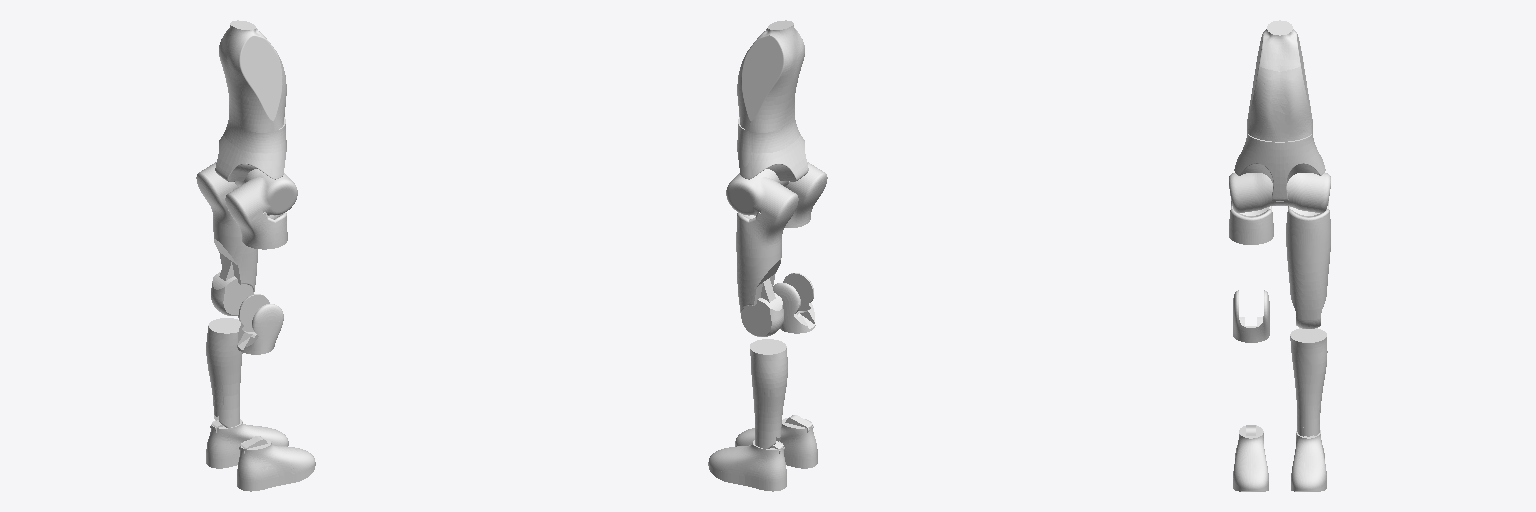
The robot description file, URDF, robot "lite_biped":
<?xml version='1.0' encoding='utf-8'?>
<robot name="lite_biped">
  <!-- GENERATED by lite_description.workflow from Onshape CAD. Do not edit by hand. Regenerate: lite-description-generate lite_biped -->
  <link name="pelvis">
    <inertial>
      <origin xyz="0.0117388 -3.26955e-07 0.172437" rpy="0 0 0" />
      <mass value="5.097" />
      <inertia ixx="0.0717755" ixy="6.22304e-08" ixz="0.00284014" iyy="0.0697925" iyz="5.11064e-07" izz="0.0139469" />
    </inertial>
    <!-- Part pelvis_parts -->
    <collision>
      <origin xyz="0.00964 1e-05 0.09166" rpy="-1.5708 1.5708 0" />
      <geometry>
        <cylinder length="0.03903" radius="0.069" />
      </geometry>
    </collision>
    <collision>
      <origin xyz="0.02 -1e-05 -0" rpy="-1.5708 1.5708 0" />
      <geometry>
        <cylinder length="0.14449" radius="0.052" />
      </geometry>
    </collision>
    <collision>
      <origin xyz="0.0112 0 0.2448" rpy="0.112574 0 -1.5708" />
      <geometry>
        <cylinder length="0.19" radius="0.074" />
      </geometry>
    </collision>
    <visual>
      <origin xyz="0.011317 -5.46765e-07 0.194586" rpy="0 -0 0" />
      <geometry>
        <mesh filename="../meshes/visual/pelvis_visual.stl" />
      </geometry>
      <material name="pelvis_parts_material">
        <color rgba="0.933333 0.933333 0.933333 1" />
      </material>
    </visual>
  </link>
  <!-- Frame imu (dummy link + fixed joint) -->
  <link name="imu">
    <origin xyz="0 0 0" rpy="0 -0 0" />
    <inertial>
      <origin xyz="0 0 0" rpy="0 0 0" />
      <mass value="1e-9" />
      <inertia ixx="0" ixy="0" ixz="0" iyy="0" iyz="0" izz="0" />
    </inertial>
  </link>
  <joint name="imu_frame" type="fixed">
    <origin xyz="0 0 0.08" rpy="0 -0 0" />
    <parent link="pelvis" />
    <child link="imu" />
    <axis xyz="0 0 0" />
  </joint>
  <!-- Link left_hip_pitch -->
  <link name="left_hip_pitch">
    <inertial>
      <origin xyz="-0.0114774 0.00418673 0.0187959" rpy="0 0 0" />
      <mass value="0.18" />
      <inertia ixx="0.000189549" ixy="1.56103e-05" ixz="-3.45388e-05" iyy="0.000226363" iyz="1.30141e-05" izz="0.000286537" />
    </inertial>
    <!-- Part left_hip_pitch_parts -->
    <visual>
      <origin xyz="-0.0114774 0.00418673 0.0187959" rpy="1.74533 0 -0" />
      <geometry>
        <mesh filename="../meshes/visual/left_hip_pitch_visual.stl" />
      </geometry>
      <material name="left_hip_pitch_parts_material">
        <color rgba="0.933333 0.933333 0.933333 1" />
      </material>
    </visual>
  </link>
  <!-- Link left_hip_roll -->
  <link name="left_hip_roll">
    <inertial>
      <origin xyz="-4.8952e-08 0.0525082 -0.0652484" rpy="0 0 0" />
      <mass value="0.93" />
      <inertia ixx="0.00263146" ixy="-5.134e-09" ixz="3.451e-09" iyy="0.00142387" iyz="-0.000651416" izz="0.00255491" />
    </inertial>
    <!-- Part left_hip_roll_parts -->
    <collision>
      <origin xyz="0 0.0248964 -0.0653033" rpy="3.14159 1.50098 1.5708" />
      <geometry>
        <cylinder length="0.08315" radius="0.051" />
      </geometry>
    </collision>
    <visual>
      <origin xyz="-4.8952e-08 0.0525082 -0.0652484" rpy="0 -1.22173 1.5708" />
      <geometry>
        <mesh filename="../meshes/visual/left_hip_roll_visual.stl" />
      </geometry>
      <material name="left_hip_roll_parts_material">
        <color rgba="0.933333 0.933333 0.933333 1" />
      </material>
    </visual>
  </link>
  <!-- Link left_hip_yaw -->
  <link name="left_hip_yaw">
    <inertial>
      <origin xyz="0.00130442 -2.2783e-05 -0.237299" rpy="0 0 0" />
      <mass value="1.54" />
      <inertia ixx="0.00856423" ixy="8.05553e-07" ixz="-0.000337563" iyy="0.00874707" iyz="1.62929e-07" izz="0.00192866" />
    </inertial>
    <!-- Part left_hip_yaw_parts -->
    <collision>
      <origin xyz="-0.005 -0 -0.2575" rpy="0 0.0689405 0" />
      <geometry>
        <cylinder length="0.14534" radius="0.055" />
      </geometry>
    </collision>
    <visual>
      <origin xyz="0.00130442 -2.2783e-05 -0.237299" rpy="-0 0 -0" />
      <geometry>
        <mesh filename="../meshes/visual/left_hip_yaw_visual.stl" />
      </geometry>
      <material name="left_hip_yaw_parts_material">
        <color rgba="0.933333 0.933333 0.933333 1" />
      </material>
    </visual>
  </link>
  <!-- Link left_knee_pitch -->
  <link name="left_knee_pitch">
    <inertial>
      <origin xyz="-0.00486713 0.0372163 -0.000224083" rpy="0 0 0" />
      <mass value="0.23" />
      <inertia ixx="0.00048246" ixy="3.51526e-05" ixz="-1.20098e-07" iyy="0.000330466" iyz="5.6617e-07" izz="0.00037756" />
    </inertial>
    <!-- Part left_knee_pitch_parts -->
    <collision>
      <origin xyz="-0.015 0.1519 0" rpy="-1.5708 -1.5708 0" />
      <geometry>
        <cylinder length="0.30379" radius="0.044" />
      </geometry>
    </collision>
    <visual>
      <origin xyz="-0.00486713 0.0372163 -0.000224083" rpy="1.5708 0 0" />
      <geometry>
        <mesh filename="../meshes/visual/left_knee_pitch_visual.stl" />
      </geometry>
      <material name="left_knee_pitch_parts_material">
        <color rgba="0.933333 0.933333 0.933333 1" />
      </material>
    </visual>
  </link>
  <!-- Link left_ankle_yaw -->
  <link name="left_ankle_yaw">
    <inertial>
      <origin xyz="-0.00304992 0.00150525 -0.18535" rpy="0 0 0" />
      <mass value="1.03" />
      <inertia ixx="0.00548966" ixy="2.18778e-06" ixz="0.000114943" iyy="0.00552969" iyz="-1.87643e-05" izz="0.000829513" />
    </inertial>
    <!-- Part left_ankle_yaw_parts -->
    <visual>
      <origin xyz="-0.00304992 0.00150525 -0.18535" rpy="-0 0 -0" />
      <geometry>
        <mesh filename="../meshes/visual/left_ankle_yaw_visual.stl" />
      </geometry>
      <material name="left_ankle_yaw_parts_material">
        <color rgba="0.933333 0.933333 0.933333 1" />
      </material>
    </visual>
  </link>
  <!-- Link left_ankle_pitch -->
  <link name="left_ankle_pitch">
    <inertial>
      <origin xyz="-0.00384209 0.0297371 3.1356e-08" rpy="0 0 0" />
      <mass value="0.34" />
      <inertia ixx="0.000180143" ixy="-3.10163e-05" ixz="-7.8e-11" iyy="0.00014325" iyz="2.66e-10" izz="0.000245142" />
    </inertial>
    <!-- Part left_ankle_pitch_parts -->
    <visual>
      <origin xyz="-0.00384209 0.0297371 3.1356e-08" rpy="1.5708 -0 -0" />
      <geometry>
        <mesh filename="../meshes/visual/left_ankle_pitch_visual.stl" />
      </geometry>
      <material name="left_ankle_pitch_parts_material">
        <color rgba="0.933333 0.933333 0.933333 1" />
      </material>
    </visual>
  </link>
  <!-- Link left_foot -->
  <link name="left_foot">
    <inertial>
      <origin xyz="-0.00237479 0.023215 0.0359752" rpy="0 0 0" />
      <mass value="0.44" />
      <inertia ixx="0.00151668" ixy="1.08029e-05" ixz="-4.76424e-05" iyy="0.00139101" iyz="-0.00016041" izz="0.000479544" />
    </inertial>
    <!-- Part left_foot_parts -->
    <collision>
      <origin xyz="-0.005 0.057 -0.056" rpy="1.5708 0 1.5708" />
      <geometry>
        <cylinder length="0.026" radius="0.008" />
      </geometry>
    </collision>
    <collision>
      <origin xyz="-0.0055 0.057 -0.0223" rpy="1.5708 0 1.5708" />
      <geometry>
        <cylinder length="0.059" radius="0.008" />
      </geometry>
    </collision>
    <collision>
      <origin xyz="-0.006 0.057 0.0113" rpy="1.5708 0 1.5708" />
      <geometry>
        <cylinder length="0.058" radius="0.008" />
      </geometry>
    </collision>
    <collision>
      <origin xyz="-0.0045 0.057 0.045" rpy="1.5708 0 1.5708" />
      <geometry>
        <cylinder length="0.063" radius="0.008" />
      </geometry>
    </collision>
    <collision>
      <origin xyz="-0.002 0.057 0.0787" rpy="1.5708 0 1.5708" />
      <geometry>
        <cylinder length="0.076" radius="0.008" />
      </geometry>
    </collision>
    <collision>
      <origin xyz="0.001 0.0526 0.1123" rpy="1.5708 0 1.5708" />
      <geometry>
        <cylinder length="0.074" radius="0.008" />
      </geometry>
    </collision>
    <collision>
      <origin xyz="0.004 0.0389 0.146" rpy="1.5708 0 1.5708" />
      <geometry>
        <cylinder length="0.04" radius="0.008" />
      </geometry>
    </collision>
    <visual>
      <origin xyz="-0.00237479 0.023215 0.0359752" rpy="1.5708 -1.5708 0" />
      <geometry>
        <mesh filename="../meshes/visual/left_foot_visual.stl" />
      </geometry>
      <material name="left_foot_parts_material">
        <color rgba="0.933333 0.933333 0.933333 1" />
      </material>
    </visual>
  </link>
  <!-- Joint from left_ankle_pitch to left_foot -->
  <joint name="left_ankle_roll" type="revolute">
    <origin xyz="0 0.04 -0" rpy="0 1.5708 0" />
    <parent link="left_ankle_pitch" />
    <child link="left_foot" />
    <axis xyz="0 0 1" />
    <limit effort="5.5" velocity="50.27" lower="-0.349066" upper="0.349066" />
    <joint_properties friction="0.1" />
  </joint>
  <!-- Joint from left_ankle_yaw to left_ankle_pitch -->
  <joint name="left_ankle_pitch" type="revolute">
    <origin xyz="0.01 -0 -0.34" rpy="-1.5708 0 -0" />
    <parent link="left_ankle_yaw" />
    <child link="left_ankle_pitch" />
    <axis xyz="0 0 1" />
    <limit effort="14.0" velocity="32.99" lower="-0.523599" upper="0.872665" />
    <joint_properties friction="0.1" />
  </joint>
  <!-- Joint from left_knee_pitch to left_ankle_yaw -->
  <joint name="left_ankle_yaw" type="revolute">
    <origin xyz="-0.015 0 0" rpy="1.5708 0 -0" />
    <parent link="left_knee_pitch" />
    <child link="left_ankle_yaw" />
    <axis xyz="0 0 1" />
    <limit effort="14.0" velocity="32.99" lower="-1.5708" upper="1.5708" />
    <joint_properties friction="0.1" />
  </joint>
  <!-- Joint from left_hip_yaw to left_knee_pitch -->
  <joint name="left_knee_pitch" type="revolute">
    <origin xyz="-0.01 0 -0.33" rpy="-1.5708 0 0" />
    <parent link="left_hip_yaw" />
    <child link="left_knee_pitch" />
    <axis xyz="0 0 1" />
    <limit effort="36.0" velocity="50.27" lower="0" upper="2.35619" />
    <joint_properties friction="0.1" />
  </joint>
  <!-- Joint from left_hip_roll to left_hip_yaw -->
  <joint name="left_hip_yaw" type="revolute">
    <origin xyz="0 -0.0068404 -0.0187939" rpy="0 -1.22173 1.5708" />
    <parent link="left_hip_roll" />
    <child link="left_hip_yaw" />
    <axis xyz="0 0 1" />
    <limit effort="17.0" velocity="42.94" lower="-1.5708" upper="1.5708" />
    <joint_properties friction="0.1" />
  </joint>
  <!-- Joint from left_hip_pitch to left_hip_roll -->
  <joint name="left_hip_roll" type="revolute">
    <origin xyz="-0 0 -0" rpy="1.91986 1.39626 1.5708" />
    <parent link="left_hip_pitch" />
    <child link="left_hip_roll" />
    <axis xyz="0 0 1" />
    <limit effort="36.0" velocity="50.27" lower="-0.349066" upper="1.5708" />
    <joint_properties friction="0.1" />
  </joint>
  <!-- Joint from pelvis to left_hip_pitch -->
  <joint name="left_hip_pitch" type="revolute">
    <origin xyz="0.02 0.07 0" rpy="-1.74533 0 0" />
    <parent link="pelvis" />
    <child link="left_hip_pitch" />
    <axis xyz="0 0 1" />
    <limit effort="36.0" velocity="50.27" lower="-2.35619" upper="0.785398" />
    <joint_properties friction="0.1" />
  </joint>
  <!-- Link right_hip_pitch -->
  <link name="right_hip_pitch">
    <inertial>
      <origin xyz="-0.0114771 0.00418737 -0.0187964" rpy="0 0 0" />
      <mass value="0.18" />
      <inertia ixx="0.000189546" ixy="1.56176e-05" ixz="3.45408e-05" iyy="0.00022637" iyz="-1.30122e-05" izz="0.000286535" />
    </inertial>
    <!-- Part right_hip_pitch_parts -->
    <visual>
      <origin xyz="-0.0114771 0.00418737 -0.0187964" rpy="1.39626 0 -0" />
      <geometry>
        <mesh filename="../meshes/visual/right_hip_pitch_visual.stl" />
      </geometry>
      <material name="right_hip_pitch_parts_material">
        <color rgba="0.933333 0.933333 0.933333 1" />
      </material>
    </visual>
  </link>
  <!-- Link right_hip_roll -->
  <link name="right_hip_roll">
    <inertial>
      <origin xyz="2.6715e-08 0.0525085 -0.0652483" rpy="0 0 0" />
      <mass value="0.93" />
      <inertia ixx="0.00263147" ixy="2.71e-10" ixz="6.079e-09" iyy="0.00142387" iyz="-0.000651423" izz="0.00255493" />
    </inertial>
    <!-- Part right_hip_roll_parts -->
    <collision>
      <origin xyz="1.40064e-07 0.0248965 -0.0653029" rpy="-3.14159 1.50098 1.5708" />
      <geometry>
        <cylinder length="0.08315" radius="0.051" />
      </geometry>
    </collision>
    <visual>
      <origin xyz="2.6715e-08 0.0525085 -0.0652483" rpy="0 -1.22173 1.5708" />
      <geometry>
        <mesh filename="../meshes/visual/right_hip_roll_visual.stl" />
      </geometry>
      <material name="right_hip_roll_parts_material">
        <color rgba="0.933333 0.933333 0.933333 1" />
      </material>
    </visual>
  </link>
  <!-- Link right_hip_yaw -->
  <link name="right_hip_yaw">
    <inertial>
      <origin xyz="0.00130421 2.35733e-05 -0.237299" rpy="0 0 0" />
      <mass value="1.54" />
      <inertia ixx="0.00856421" ixy="-7.98006e-07" ixz="-0.000337552" iyy="0.00874705" iyz="-2.23692e-07" izz="0.00192867" />
    </inertial>
    <!-- Part right_hip_yaw_parts -->
    <collision>
      <origin xyz="-0.005 -0 -0.2575" rpy="-0 0.0689405 -0" />
      <geometry>
        <cylinder length="0.14534" radius="0.055" />
      </geometry>
    </collision>
    <visual>
      <origin xyz="0.00130421 2.35733e-05 -0.237299" rpy="0 0 -0" />
      <geometry>
        <mesh filename="../meshes/visual/right_hip_yaw_visual.stl" />
      </geometry>
      <material name="right_hip_yaw_parts_material">
        <color rgba="0.933333 0.933333 0.933333 1" />
      </material>
    </visual>
  </link>
  <!-- Link right_knee_pitch -->
  <link name="right_knee_pitch">
    <inertial>
      <origin xyz="-0.0048642 0.0372186 0.000224747" rpy="0 0 0" />
      <mass value="0.23" />
      <inertia ixx="0.000482479" ixy="3.5171e-05" ixz="1.13103e-07" iyy="0.000330463" iyz="-5.54061e-07" izz="0.000377561" />
    </inertial>
    <!-- Part right_knee_pitch_parts -->
    <collision>
      <origin xyz="-0.015 0.1519 0" rpy="-1.5708 -1.5708 0" />
      <geometry>
        <cylinder length="0.30379" radius="0.044" />
      </geometry>
    </collision>
    <visual>
      <origin xyz="-0.0048642 0.0372186 0.000224747" rpy="1.5708 0 0" />
      <geometry>
        <mesh filename="../meshes/visual/right_knee_pitch_visual.stl" />
      </geometry>
      <material name="right_knee_pitch_parts_material">
        <color rgba="0.933333 0.933333 0.933333 1" />
      </material>
    </visual>
  </link>
  <!-- Link right_ankle_yaw -->
  <link name="right_ankle_yaw">
    <inertial>
      <origin xyz="-0.00304908 -0.0015054 -0.185348" rpy="0 0 0" />
      <mass value="1.03" />
      <inertia ixx="0.00548969" ixy="-2.19478e-06" ixz="0.000114953" iyy="0.00552968" iyz="1.87697e-05" izz="0.00082951" />
    </inertial>
    <!-- Part right_ankle_yaw_parts -->
    <visual>
      <origin xyz="-0.00304908 -0.0015054 -0.185348" rpy="0 0 -0" />
      <geometry>
        <mesh filename="../meshes/visual/right_ankle_yaw_visual.stl" />
      </geometry>
      <material name="right_ankle_yaw_parts_material">
        <color rgba="0.933333 0.933333 0.933333 1" />
      </material>
    </visual>
  </link>
  <!-- Link right_ankle_pitch -->
  <link name="right_ankle_pitch">
    <inertial>
      <origin xyz="-0.00384209 0.0297371 3.1396e-08" rpy="0 0 0" />
      <mass value="0.34" />
      <inertia ixx="0.000180143" ixy="-3.10163e-05" ixz="-7.8e-11" iyy="0.00014325" iyz="2.66e-10" izz="0.000245142" />
    </inertial>
    <!-- Part right_ankle_pitch_parts -->
    <visual>
      <origin xyz="-0.00384209 0.0297371 3.1396e-08" rpy="1.5708 0 0" />
      <geometry>
        <mesh filename="../meshes/visual/right_ankle_pitch_visual.stl" />
      </geometry>
      <material name="right_ankle_pitch_parts_material">
        <color rgba="0.933333 0.933333 0.933333 1" />
      </material>
    </visual>
  </link>
  <!-- Link right_foot -->
  <link name="right_foot">
    <inertial>
      <origin xyz="0.0023746 0.0232151 0.0359757" rpy="0 0 0" />
      <mass value="0.44" />
      <inertia ixx="0.00151669" ixy="-1.0799e-05" ixz="4.76345e-05" iyy="0.00139101" iyz="-0.000160415" izz="0.000479546" />
    </inertial>
    <!-- Part right_foot_parts -->
    <collision>
      <origin xyz="0.005 0.057 -0.056" rpy="1.5708 0 1.5708" />
      <geometry>
        <cylinder length="0.026" radius="0.008" />
      </geometry>
    </collision>
    <collision>
      <origin xyz="0.0055 0.057 -0.0223" rpy="1.5708 0 1.5708" />
      <geometry>
        <cylinder length="0.059" radius="0.008" />
      </geometry>
    </collision>
    <collision>
      <origin xyz="0.006 0.057 0.0113" rpy="1.5708 0 1.5708" />
      <geometry>
        <cylinder length="0.058" radius="0.008" />
      </geometry>
    </collision>
    <collision>
      <origin xyz="0.0045 0.057 0.045" rpy="1.5708 0 1.5708" />
      <geometry>
        <cylinder length="0.063" radius="0.008" />
      </geometry>
    </collision>
    <collision>
      <origin xyz="0.002 0.057 0.0787" rpy="1.5708 0 1.5708" />
      <geometry>
        <cylinder length="0.076" radius="0.008" />
      </geometry>
    </collision>
    <collision>
      <origin xyz="-0.001 0.0526 0.1123" rpy="1.5708 0 1.5708" />
      <geometry>
        <cylinder length="0.074" radius="0.008" />
      </geometry>
    </collision>
    <collision>
      <origin xyz="-0.004 0.0389 0.146" rpy="1.5708 0 1.5708" />
      <geometry>
        <cylinder length="0.04" radius="0.008" />
      </geometry>
    </collision>
    <visual>
      <origin xyz="0.0023746 0.0232151 0.0359757" rpy="1.5708 -1.5708 0" />
      <geometry>
        <mesh filename="../meshes/visual/right_foot_visual.stl" />
      </geometry>
      <material name="right_foot_parts_material">
        <color rgba="0.933333 0.933333 0.933333 1" />
      </material>
    </visual>
  </link>
  <!-- Joint from right_ankle_pitch to right_foot -->
  <joint name="right_ankle_roll" type="revolute">
    <origin xyz="0 0.04 0" rpy="0 1.5708 0" />
    <parent link="right_ankle_pitch" />
    <child link="right_foot" />
    <axis xyz="0 0 1" />
    <limit effort="5.5" velocity="50.27" lower="-0.349066" upper="0.349066" />
    <joint_properties friction="0.1" />
  </joint>
  <!-- Joint from right_ankle_yaw to right_ankle_pitch -->
  <joint name="right_ankle_pitch" type="revolute">
    <origin xyz="0.01 0 -0.34" rpy="-1.5708 -0 -0" />
    <parent link="right_ankle_yaw" />
    <child link="right_ankle_pitch" />
    <axis xyz="0 0 1" />
    <limit effort="14.0" velocity="32.99" lower="-0.523599" upper="0.872665" />
    <joint_properties friction="0.1" />
  </joint>
  <!-- Joint from right_knee_pitch to right_ankle_yaw -->
  <joint name="right_ankle_yaw" type="revolute">
    <origin xyz="-0.015 0 0" rpy="1.5708 -0 -0" />
    <parent link="right_knee_pitch" />
    <child link="right_ankle_yaw" />
    <axis xyz="0 0 1" />
    <limit effort="14.0" velocity="32.99" lower="-1.5708" upper="1.5708" />
    <joint_properties friction="0.1" />
  </joint>
  <!-- Joint from right_hip_yaw to right_knee_pitch -->
  <joint name="right_knee_pitch" type="revolute">
    <origin xyz="-0.01 -0 -0.33" rpy="-1.5708 0 0" />
    <parent link="right_hip_yaw" />
    <child link="right_knee_pitch" />
    <axis xyz="0 0 1" />
    <limit effort="36.0" velocity="50.27" lower="0" upper="2.35619" />
    <joint_properties friction="0.1" />
  </joint>
  <!-- Joint from right_hip_roll to right_hip_yaw -->
  <joint name="right_hip_yaw" type="revolute">
    <origin xyz="-0 -0.0068404 -0.0187939" rpy="-0 -1.22173 1.5708" />
    <parent link="right_hip_roll" />
    <child link="right_hip_yaw" />
    <axis xyz="0 0 1" />
    <limit effort="17.0" velocity="42.94" lower="-1.5708" upper="1.5708" />
    <joint_properties friction="0.1" />
  </joint>
  <!-- Joint from right_hip_pitch to right_hip_roll -->
  <joint name="right_hip_roll" type="revolute">
    <origin xyz="0 -0 -0" rpy="-1.22173 1.39626 -1.5708" />
    <parent link="right_hip_pitch" />
    <child link="right_hip_roll" />
    <axis xyz="0 0 1" />
    <limit effort="36.0" velocity="50.27" lower="-1.5708" upper="0.349066" />
    <joint_properties friction="0.1" />
  </joint>
  <!-- Joint from pelvis to right_hip_pitch -->
  <joint name="right_hip_pitch" type="revolute">
    <origin xyz="0.02 -0.07 -0" rpy="-1.39626 -0 0" />
    <parent link="pelvis" />
    <child link="right_hip_pitch" />
    <axis xyz="0 0 1" />
    <limit effort="36.0" velocity="50.27" lower="-2.35619" upper="0.785398" />
    <joint_properties friction="0.1" />
  </joint>
</robot>

--- Facts derived from the render (not from the file) ---
3 views of the same robot in one strip: view 1: azimuth 30°, elevation 25°; view 2: azimuth 150°, elevation 25°; view 3: azimuth 270°, elevation 25° (orthographic).
Model lite_biped with 16 links and 15 joints (14 revolute, 1 fixed), rooted at pelvis, posed every joint at zero.
Links seen in each view (by area): view 1: pelvis, left_ankle_yaw, left_hip_yaw, right_foot, right_hip_roll, right_knee_pitch, left_foot, right_hip_pitch, left_hip_roll; view 2: pelvis, left_hip_yaw, left_ankle_yaw, left_foot, left_hip_roll, right_knee_pitch, right_foot, left_hip_pitch, right_hip_roll; view 3: pelvis, left_ankle_yaw, left_hip_yaw, right_foot, left_foot, left_hip_roll, right_hip_roll, right_knee_pitch, left_hip_pitch, right_hip_pitch.
Link boxes in pixels (<box>): pelvis: <box>215,20,286,186</box>; left_ankle_yaw: <box>206,318,242,427</box>; left_hip_yaw: <box>211,220,257,315</box>; right_foot: <box>237,439,315,491</box>; right_hip_roll: <box>225,185,287,249</box>; right_knee_pitch: <box>237,294,283,354</box>; left_foot: <box>206,419,288,468</box>; right_hip_pitch: <box>243,173,297,215</box>; left_hip_roll: <box>196,164,238,227</box>; pelvis: <box>737,20,808,186</box>; left_hip_yaw: <box>736,241,783,336</box>; left_ankle_yaw: <box>750,339,787,448</box>; left_foot: <box>708,440,786,491</box>; left_hip_roll: <box>736,185,798,249</box>; right_knee_pitch: <box>773,273,815,333</box>; right_foot: <box>735,418,817,468</box>; left_hip_pitch: <box>726,173,780,215</box>; right_hip_roll: <box>785,164,827,227</box>; pelvis: <box>1234,20,1325,210</box>; left_ankle_yaw: <box>1290,328,1327,436</box>; left_hip_yaw: <box>1286,237,1330,328</box>; right_foot: <box>1233,425,1268,491</box>; left_foot: <box>1291,430,1326,491</box>; left_hip_roll: <box>1286,201,1330,244</box>; right_hip_roll: <box>1229,201,1273,244</box>; right_knee_pitch: <box>1233,290,1269,342</box>; left_hip_pitch: <box>1306,173,1330,212</box>; right_hip_pitch: <box>1229,173,1253,212</box>.
Size in the robot's own frame: 0.235 by 0.2504 by 1.2 metres.
12 mesh visuals loaded from 15 distinct referenced files (12 binary STL); not drawn: 3 (reference not matched to a file when rendering).
